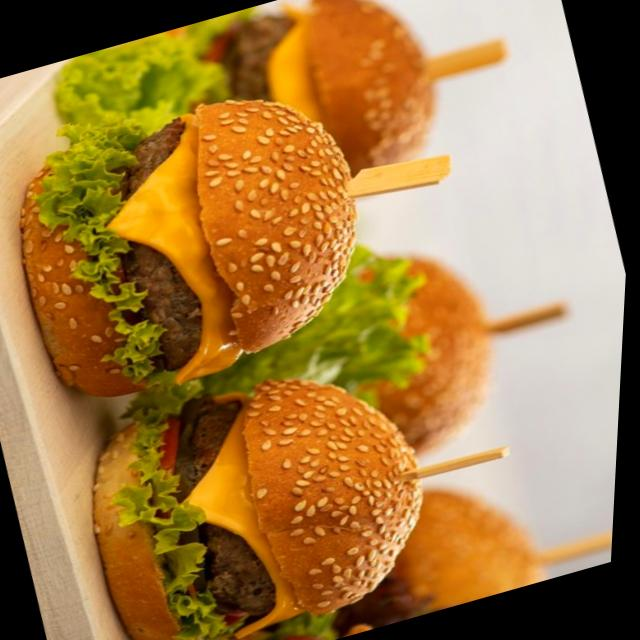burger: (0, 65, 400, 414), (64, 341, 467, 640), (177, 228, 529, 511), (120, 0, 465, 232), (342, 460, 561, 630)
